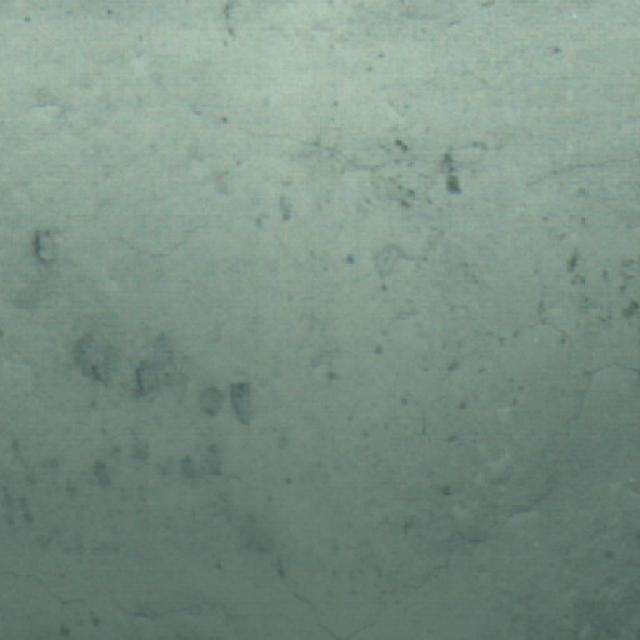Network: (15, 120, 639, 640)
